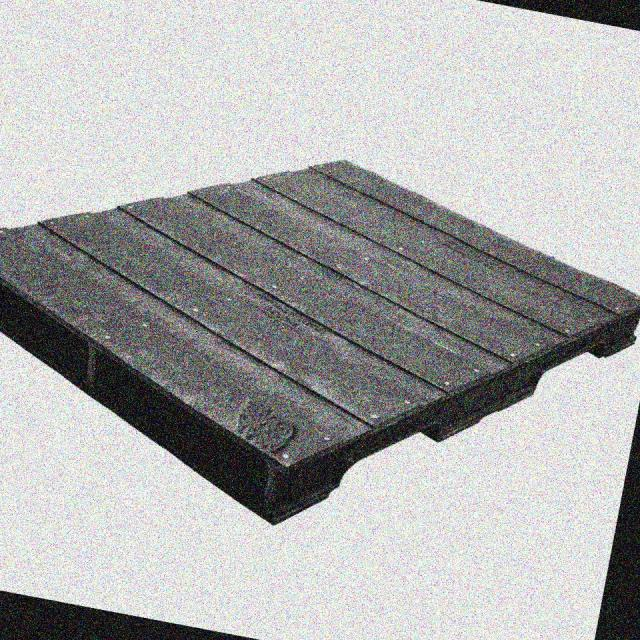non-igps: (0, 152, 640, 532)
